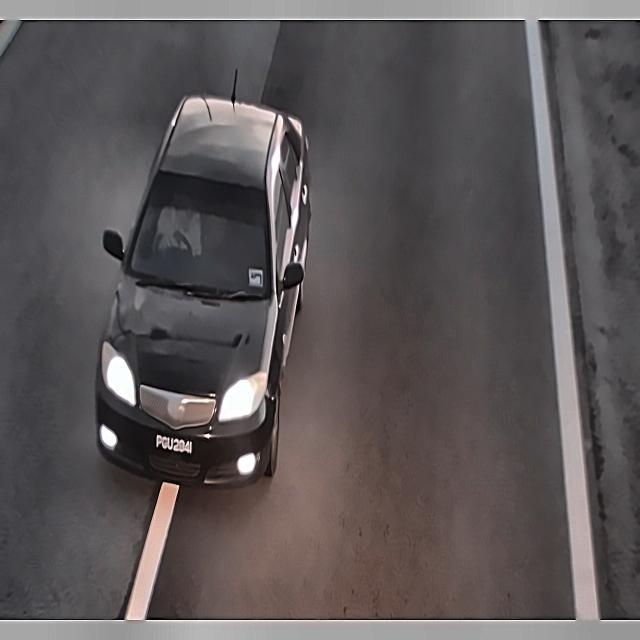car: (148, 421, 208, 466)
